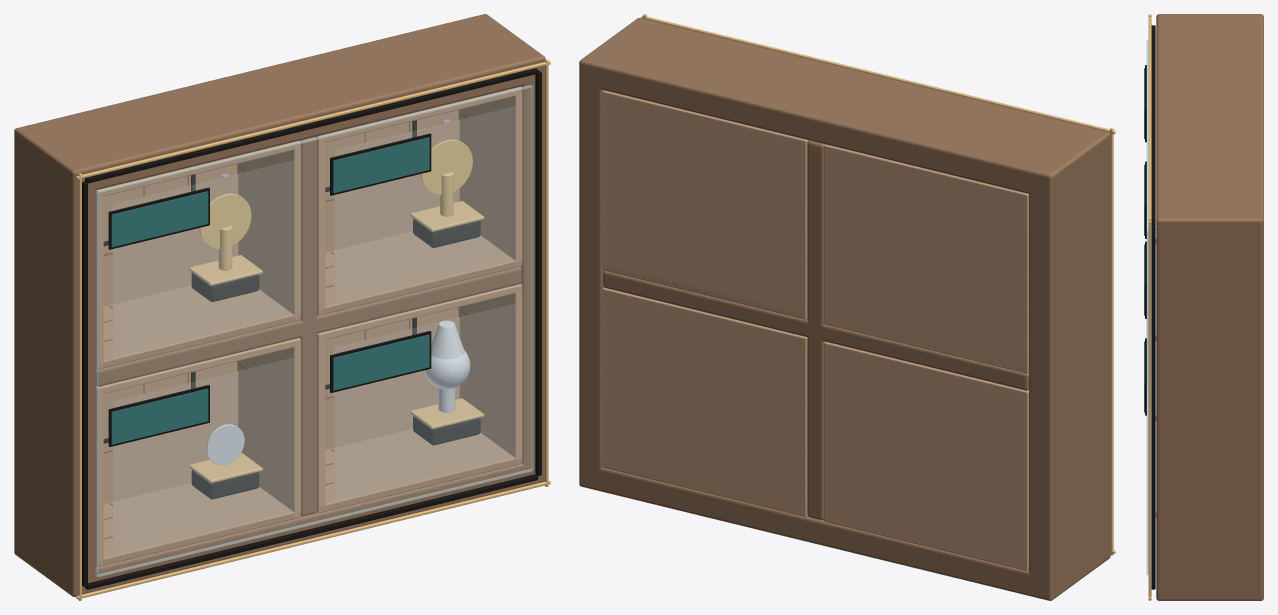
Rendered from wooden-gallery-cabinet-v6.glb.
3 views of the same model, side by side, from view 1: azimuth 30°, elevation 25°; view 2: azimuth 150°, elevation 25°; view 3: azimuth 270°, elevation 25° (orthographic). The views are drawn at different scales.
Visible parts, largest first — view 1: front-glass-outer-pane, outer-frame-top, outer-frame-left, slot-2.front-glass-pane, slot-0.front-glass-pane, slot-3.front-glass-pane, slot-1.front-glass-pane, slot-2.back-panel, outer-frame-bottom, slot-0.floor-panel, slot-2.floor-panel, slot-1.floor-panel (+52 smaller); view 2: outer-frame-top, slot-2.back-panel, slot-0.back-panel, slot-3.back-panel, slot-1.back-panel, outer-frame-left, outer-frame-bottom, outer-frame-right, divider-horizontal-core, divider-vertical-core, brass-outer-top, brass-outer-left (+5 smaller); view 3: outer-frame-right, outer-frame-top, outer-frame-bottom, lacquer-outer-right-rib, brass-outer-right, front-glass-outer-right-edge, lacquer-outer-top-rib, outer-frame-left, brass-outer-top, front-glass-outer-top-edge, front-glass-outer-left-edge, front-glass-outer-bottom-edge.
Boxes of the visible parts, left/top/right/bottom form: front-glass-outer-pane: left=99, top=88, right=530, bottom=573; outer-frame-top: left=14, top=14, right=545, bottom=192; outer-frame-left: left=14, top=124, right=95, bottom=596; slot-2.front-glass-pane: left=113, top=358, right=293, bottom=554; slot-0.front-glass-pane: left=113, top=161, right=293, bottom=357; slot-3.front-glass-pane: left=335, top=304, right=514, bottom=500; slot-1.front-glass-pane: left=335, top=107, right=514, bottom=302; slot-2.back-panel: left=103, top=361, right=238, bottom=503; outer-frame-bottom: left=14, top=461, right=544, bottom=596; slot-0.floor-panel: left=96, top=285, right=300, bottom=369; slot-2.floor-panel: left=98, top=483, right=300, bottom=566; slot-1.floor-panel: left=317, top=231, right=522, bottom=315; outer-frame-top: left=580, top=18, right=1110, bottom=196; slot-2.back-panel: left=824, top=343, right=1028, bottom=570; slot-0.back-panel: left=824, top=145, right=1028, bottom=373; slot-3.back-panel: left=602, top=287, right=807, bottom=516; slot-1.back-panel: left=603, top=96, right=808, bottom=319; outer-frame-left: left=1029, top=127, right=1110, bottom=600; outer-frame-bottom: left=579, top=465, right=1110, bottom=600; outer-frame-right: left=579, top=18, right=657, bottom=490; divider-horizontal-core: left=603, top=270, right=1028, bottom=390; divider-vertical-core: left=807, top=140, right=824, bottom=520; brass-outer-top: left=641, top=15, right=1115, bottom=134; brass-outer-left: left=1110, top=128, right=1113, bottom=555; outer-frame-right: left=1156, top=210, right=1263, bottom=600; outer-frame-top: left=1156, top=14, right=1263, bottom=239; outer-frame-bottom: left=1156, top=581, right=1263, bottom=600; lacquer-outer-right-rib: left=1151, top=225, right=1155, bottom=587; brass-outer-right: left=1148, top=218, right=1151, bottom=600; front-glass-outer-right-edge: left=1146, top=230, right=1148, bottom=574; lacquer-outer-top-rib: left=1151, top=25, right=1155, bottom=225; outer-frame-left: left=1158, top=14, right=1261, bottom=22; brass-outer-top: left=1148, top=17, right=1151, bottom=223; front-glass-outer-top-edge: left=1146, top=39, right=1148, bottom=231; front-glass-outer-left-edge: left=1147, top=40, right=1148, bottom=383; front-glass-outer-bottom-edge: left=1147, top=384, right=1148, bottom=575.
Size of the model in its own units: 5.55 by 4.78 by 1.36.
